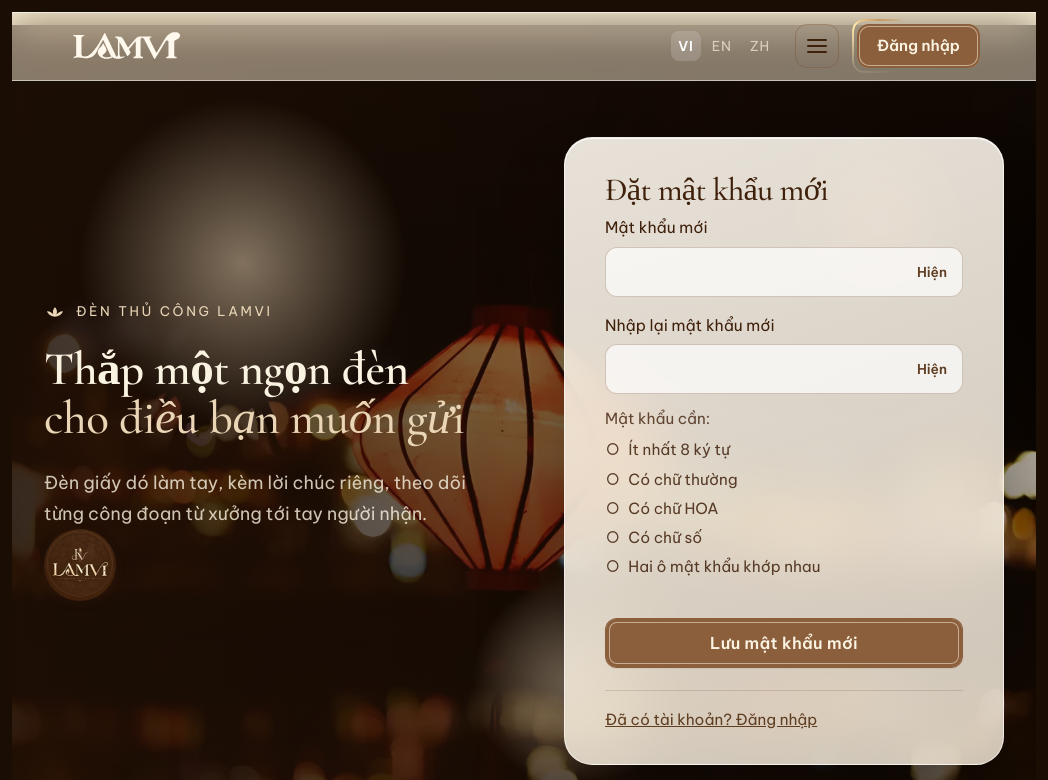
it: ResetPasswordPage: đọc token từ fragment › lỗi 500 / mạng khi gửi → hiện lỗi chung, KHÔNG chuyển sang trạng thái "link hỏng" (còn thử lại được)
Check: the heading "Đặt mật khẩu mới" is shown, box [605, 170, 828, 209]
Type "Moi-Nang#Xuan71" into the password field labelled "Mật khẩu mới" at (784, 272), box [605, 247, 963, 296]
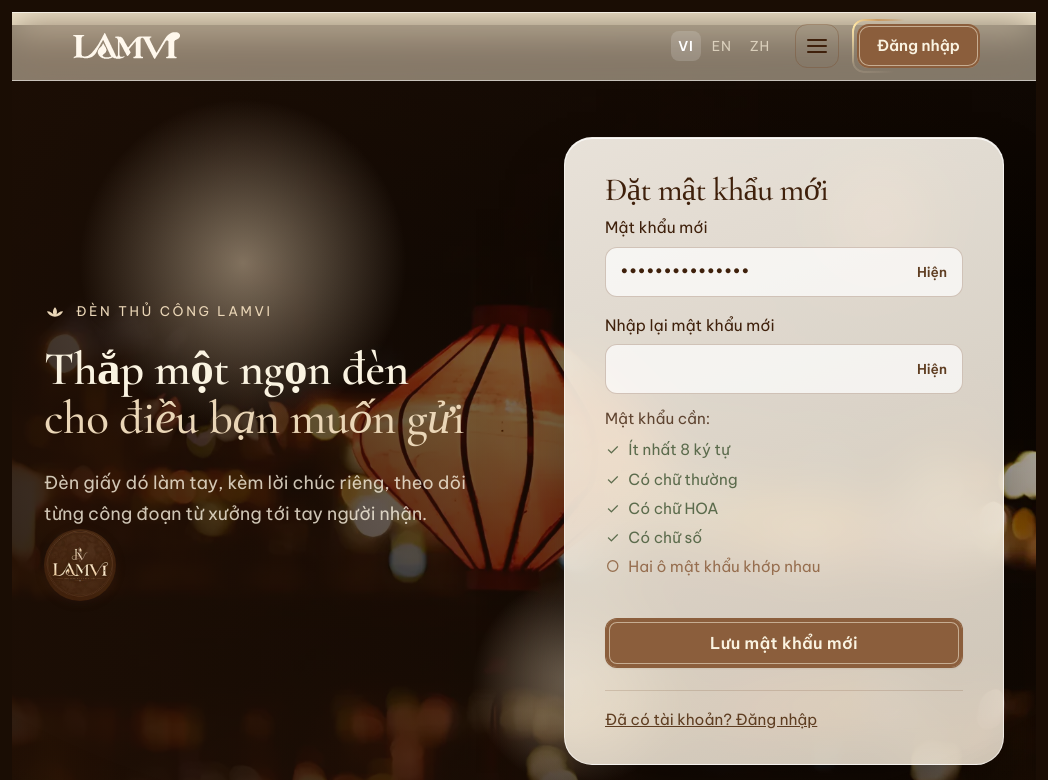
Type "Moi-Nang#Xuan71" into the password field labelled "Nhập lại mật khẩu mới" at (784, 369), box [605, 344, 963, 394]
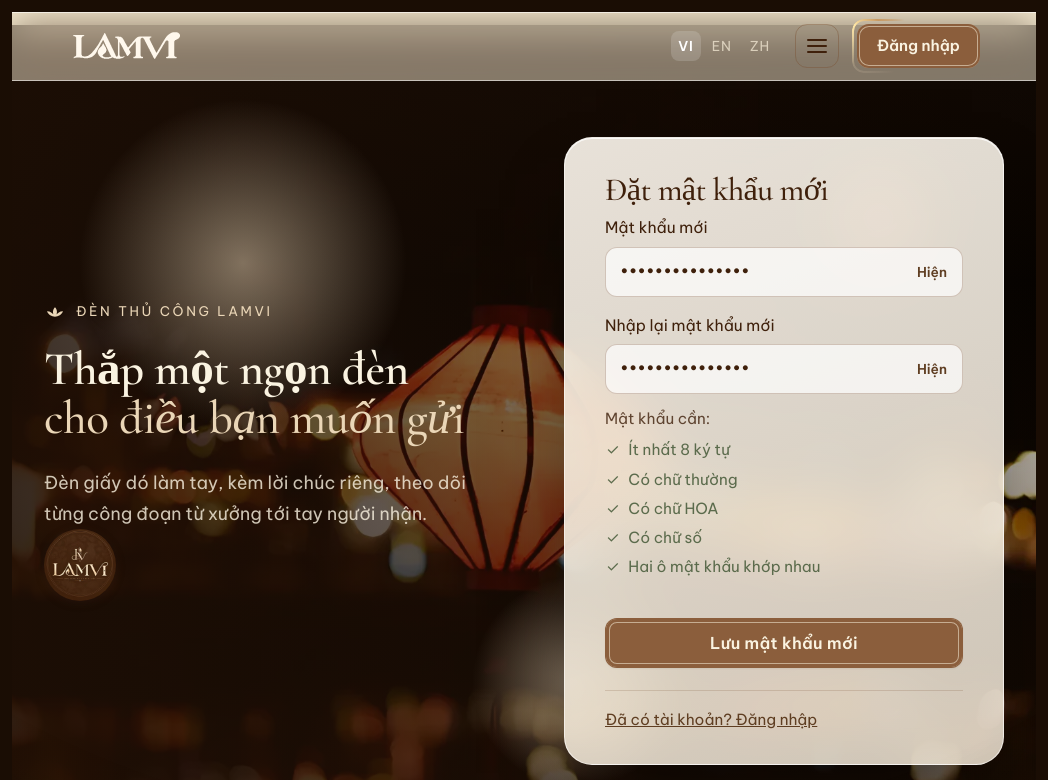
Click the button "Lưu mật khẩu mới" at (784, 642), box [605, 618, 963, 668]
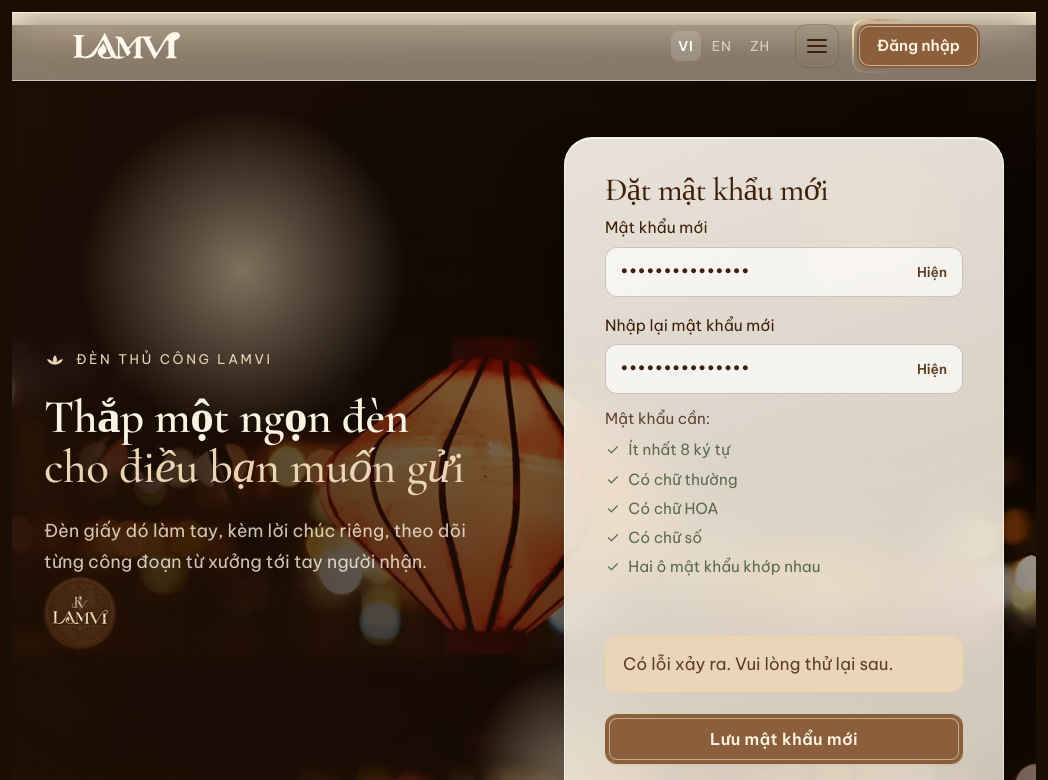
Check: the message "Có lỗi xảy ra. Vui lòng thử lại sau." is shown, box [605, 636, 963, 692]
